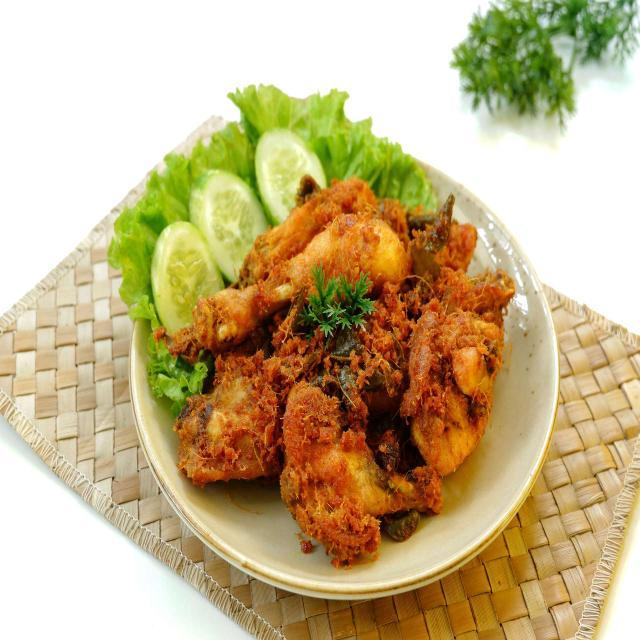ayam_goreng: (170, 175, 512, 577)
